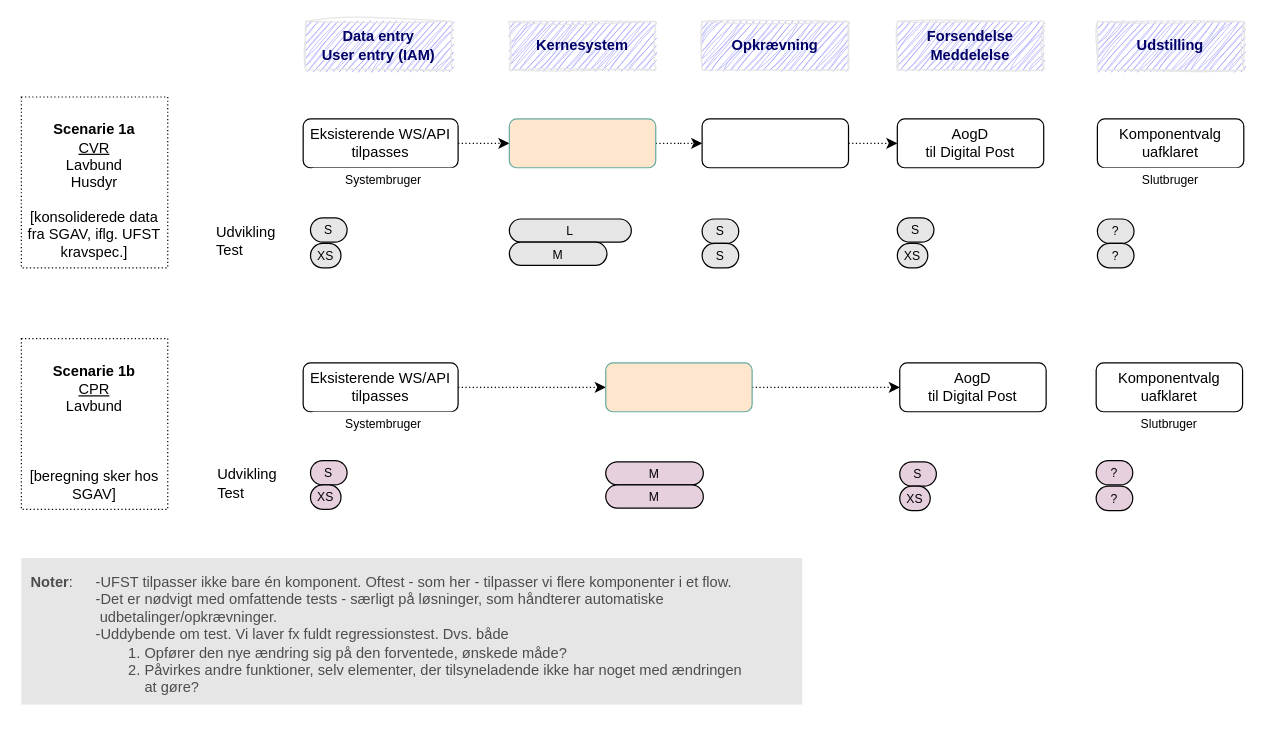
Image size: 1265x736. Some labels were removed from this diagram. Each missing label, with the centre of its shape:
"DMO" goes at [678,387].
"SAP PS" goes at [582,143].
"Skattekontoen" goes at [775,143].
